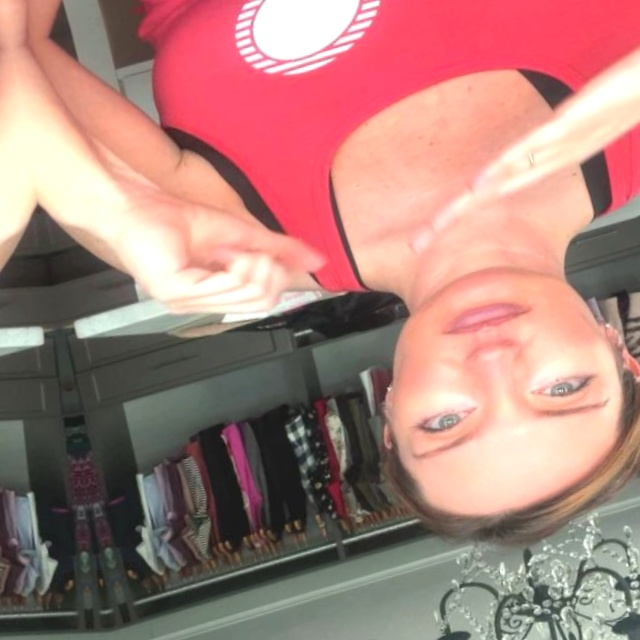Paper: (384, 14, 640, 243)
Rock: (110, 154, 332, 347)
